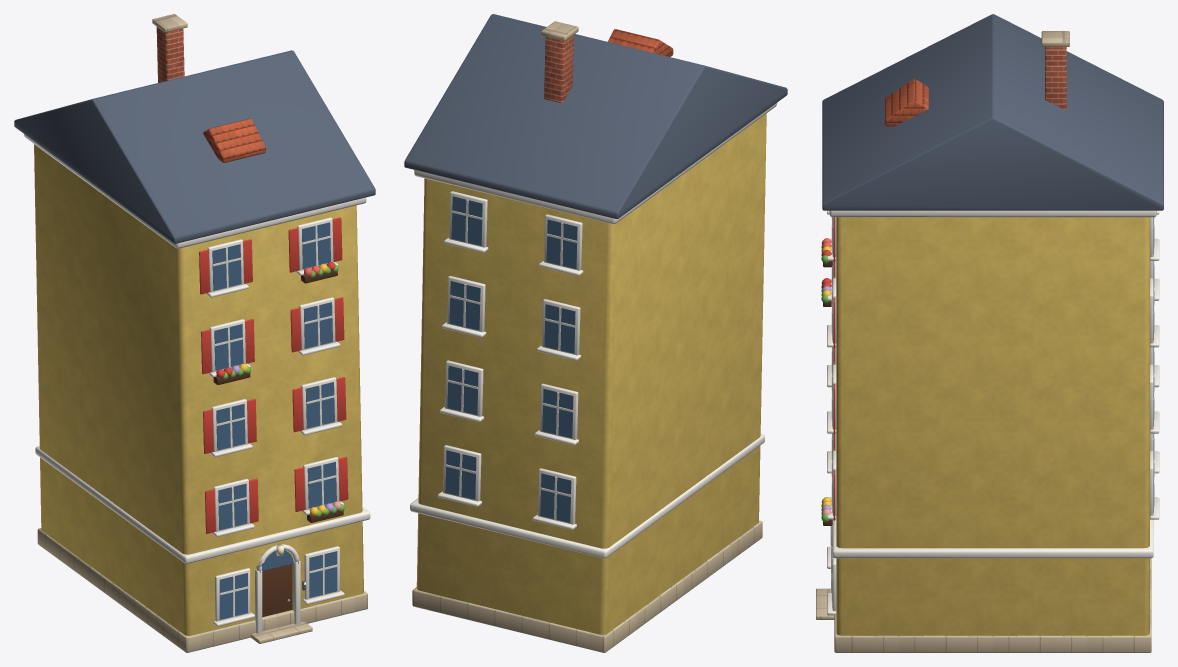
Rendered from house_b.gltf.
The picture shows the model from 3 angles, left to right: view 1: azimuth 30°, elevation 25°; view 2: azimuth 150°, elevation 25°; view 3: azimuth 270°, elevation 25°; orthographic projection. The views are drawn at different scales.
Parts seen in each view (by area): view 1: house_b_mesh, INT_door_house_b_0; view 2: house_b_mesh; view 3: house_b_mesh.
Boxes of the visible parts, x1,y1,x2,y2 form: house_b_mesh: [14, 14, 375, 652]; INT_door_house_b_0: [262, 563, 291, 617]; house_b_mesh: [404, 14, 787, 652]; house_b_mesh: [816, 14, 1163, 652].
Size of what is drawn, in the model's own units: 7.98 by 20 by 11.1.
21 materials, 4 textured.
